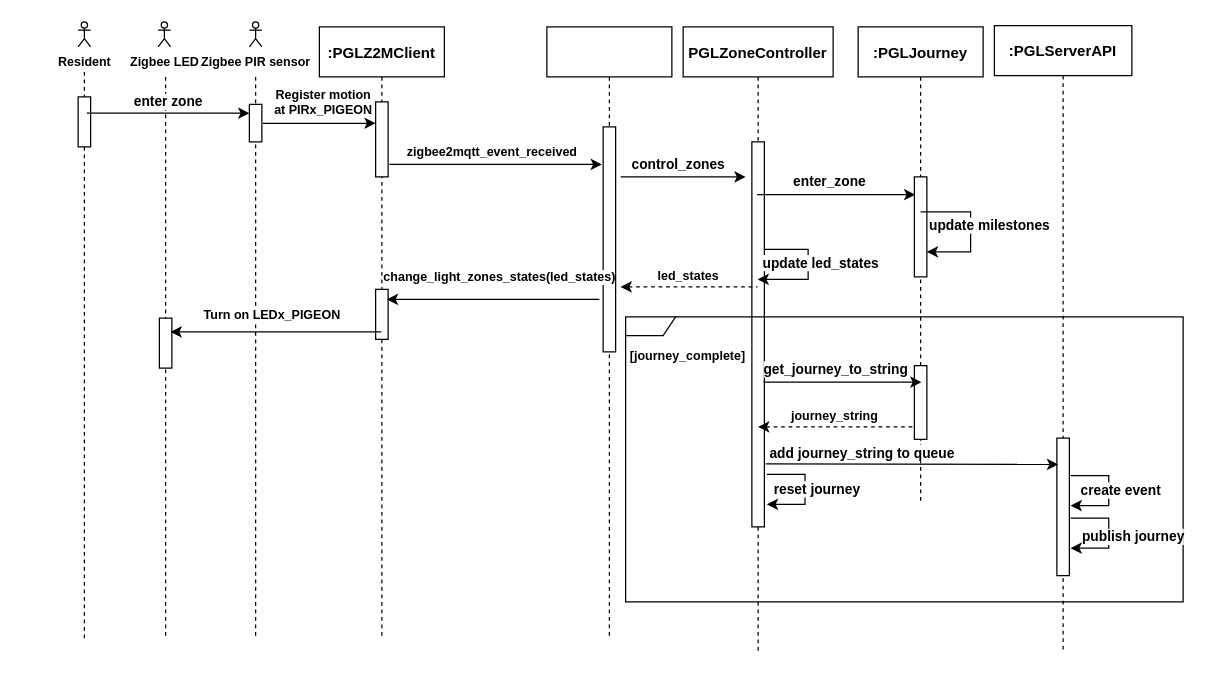
Image size: 1205x674. Some labels were removed from this diagram. The centre of each missing label's shape, as x and y in pixels:
:PGLController: the point at 609,332
alt: the point at 903,459
